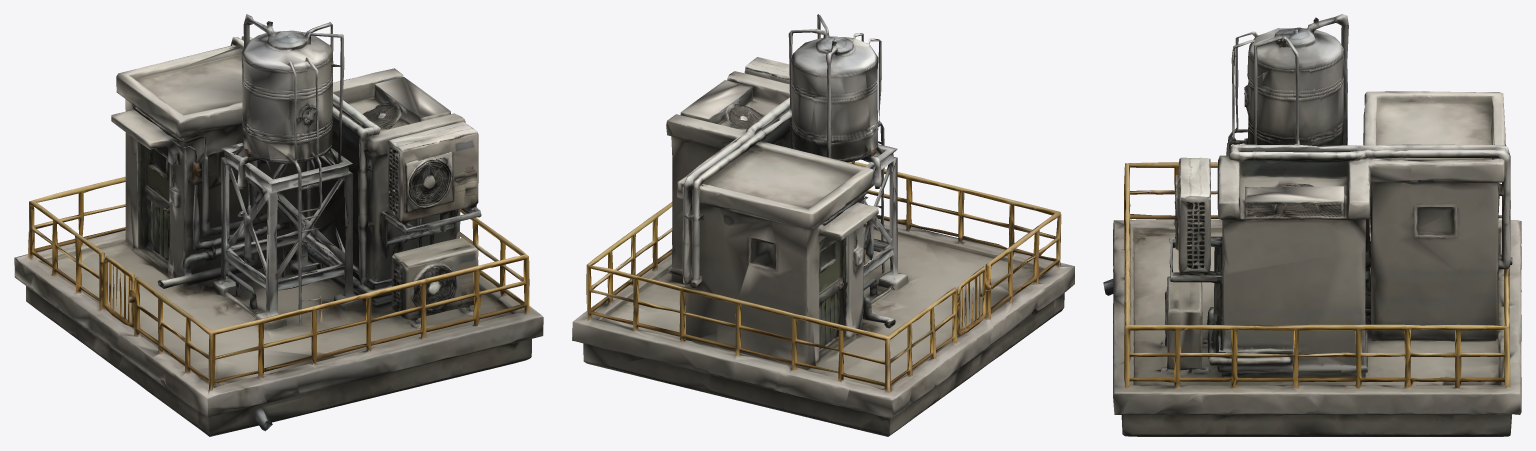
Rendered from tripo_h31_industrial_rooftop_hvac_facility.glb.
3 views of the same model, side by side, from view 1: azimuth 30°, elevation 25°; view 2: azimuth 150°, elevation 25°; view 3: azimuth 270°, elevation 25° (orthographic). The views are drawn at different scales.
Parts seen in each view (by area): view 1: tripo_node_1fe5fc5a-7c7c-4824-9cac-b3f4918eb2cd; view 2: tripo_node_1fe5fc5a-7c7c-4824-9cac-b3f4918eb2cd; view 3: tripo_node_1fe5fc5a-7c7c-4824-9cac-b3f4918eb2cd.
Boxes of the visible parts, x1=… form: tripo_node_1fe5fc5a-7c7c-4824-9cac-b3f4918eb2cd: x1=14, y1=14, x2=543, y2=436; tripo_node_1fe5fc5a-7c7c-4824-9cac-b3f4918eb2cd: x1=572, y1=14, x2=1074, y2=436; tripo_node_1fe5fc5a-7c7c-4824-9cac-b3f4918eb2cd: x1=1103, y1=14, x2=1521, y2=436.
Size of the model in its own units: 0.9691 by 0.8573 by 0.9814.
1 material, 1 textured.
